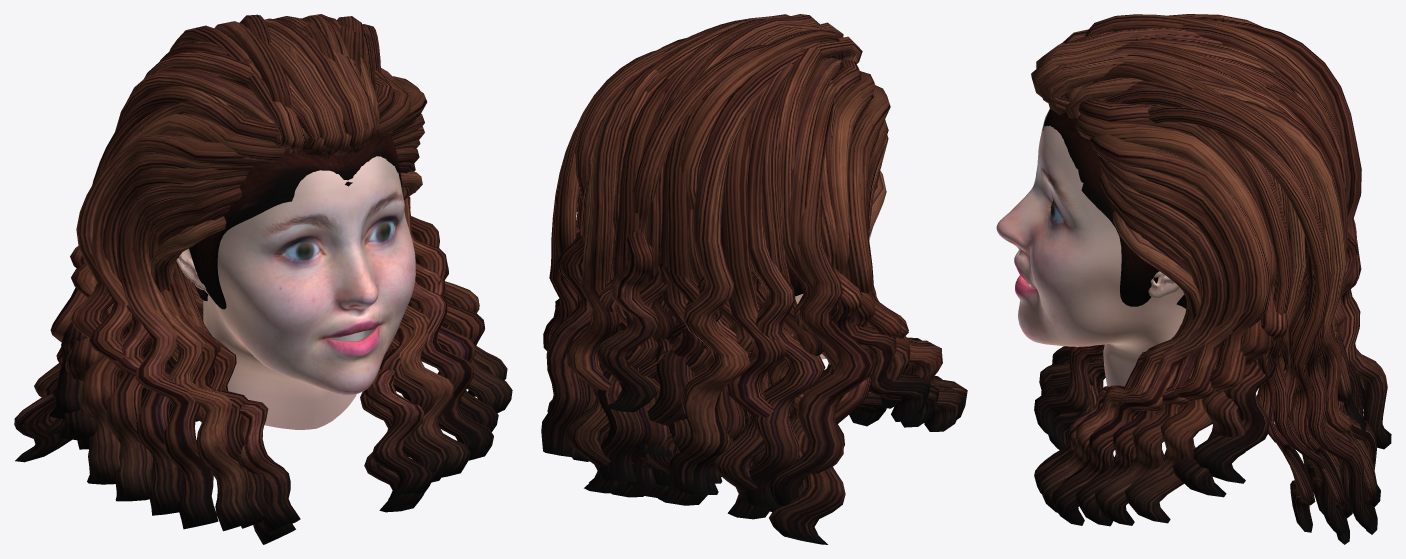
Rendered from surprise.obj.
3 views of the same model, side by side, from view 1: azimuth 30°, elevation 25°; view 2: azimuth 150°, elevation 25°; view 3: azimuth 270°, elevation 25° (orthographic). The views are drawn at different scales.
Parts seen in each view (by area): view 1: surprise; view 2: surprise; view 3: surprise.
Part boxes in pixels (<box>): surprise: <box>14,14,512,544</box>; surprise: <box>541,14,967,544</box>; surprise: <box>996,14,1391,544</box>.
Size of the model in its own units: 365 by 387 by 298.
